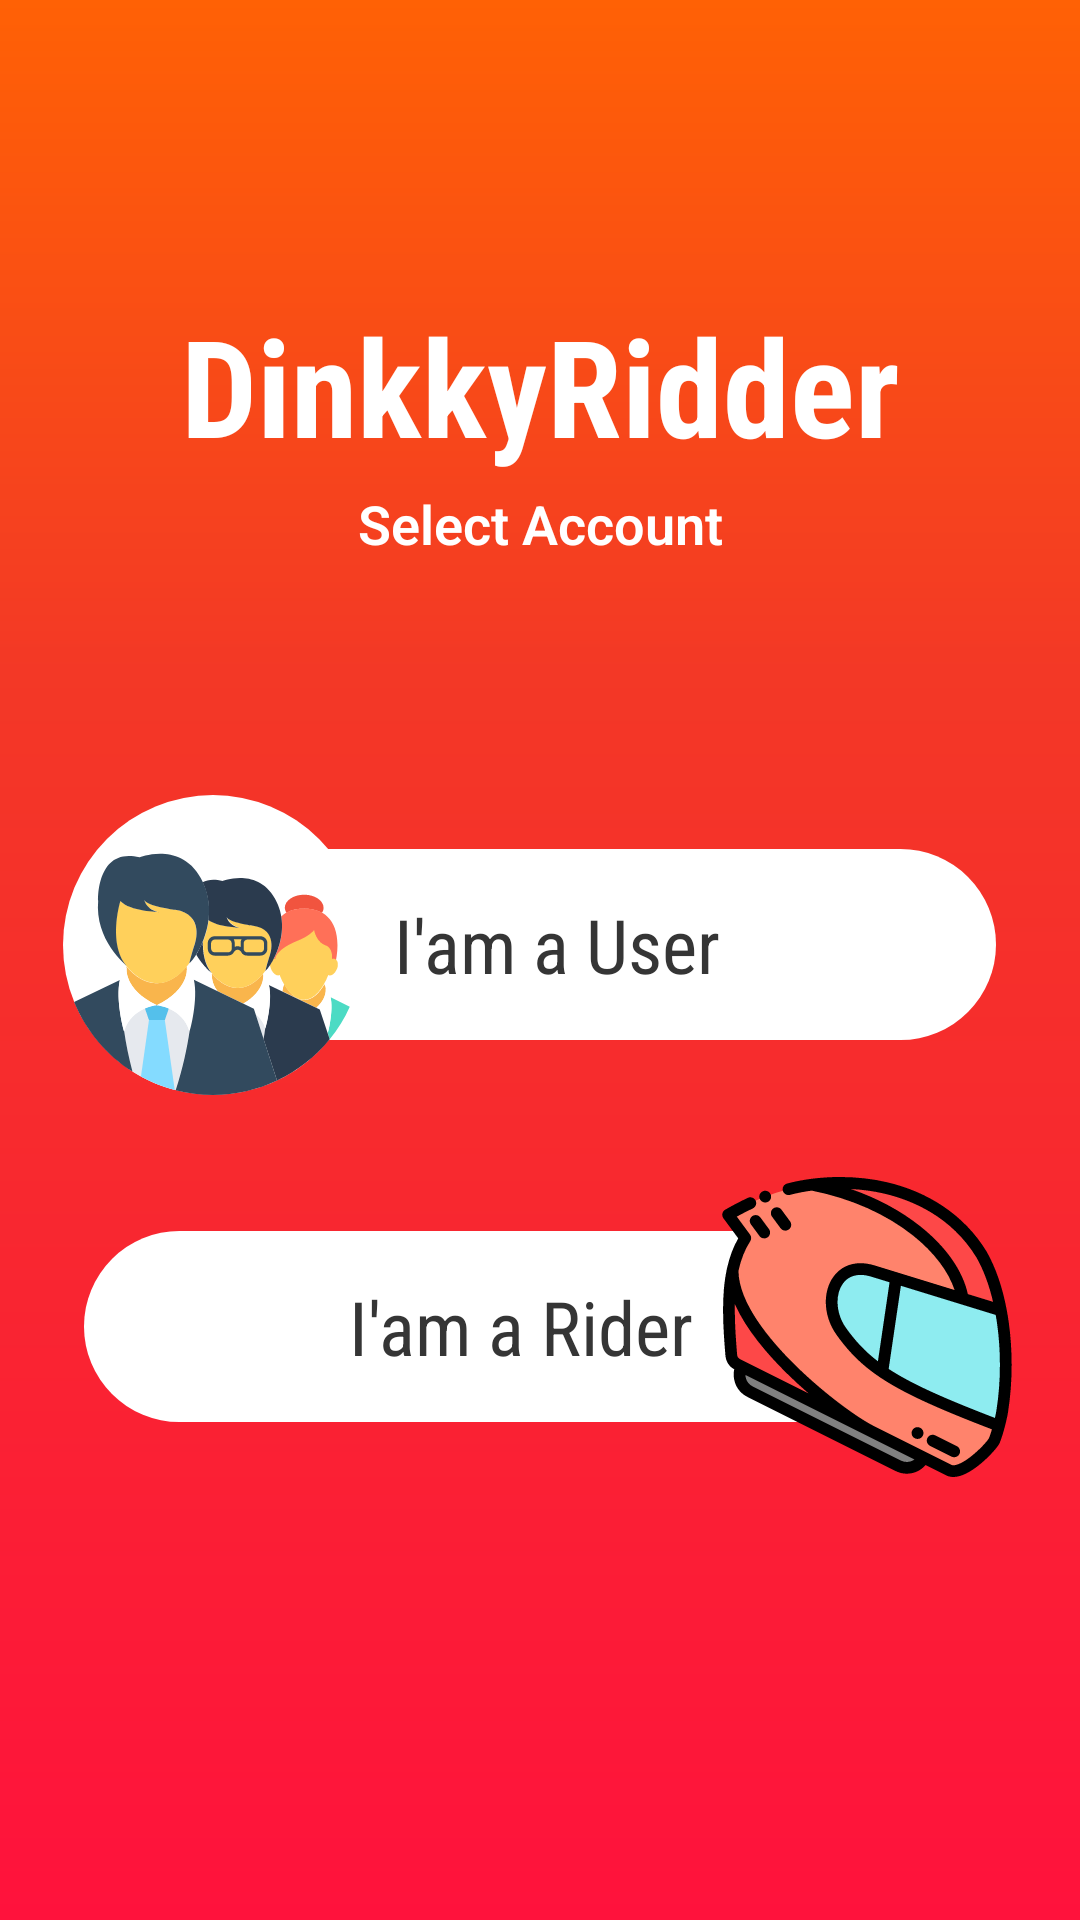

Icon bounding boxes for this 1080x1920 phone screenshot, format region(x1, y1, x2, y2):
racing helmet: region(717, 1177, 1012, 1477)
team: region(63, 795, 363, 1095)
